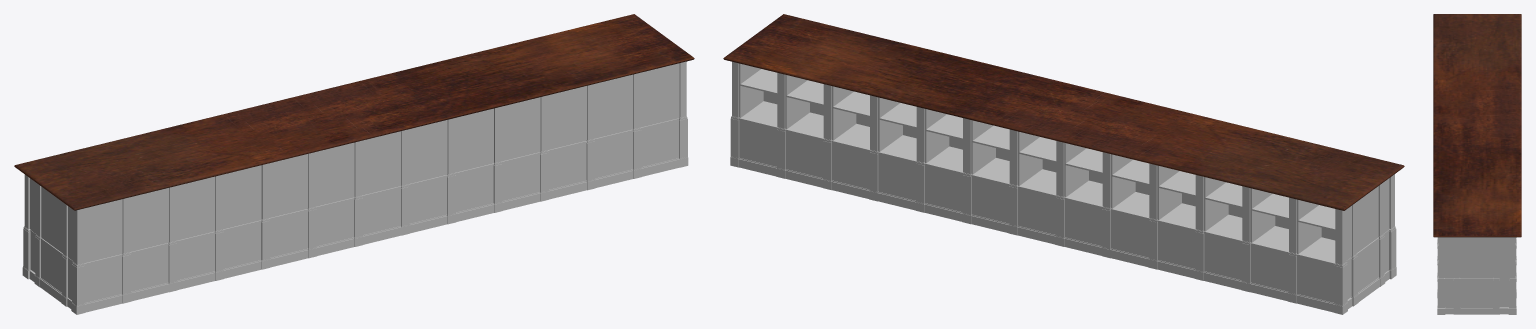
Rendered from bancada_biblioteca.fbx.
3 renders of one model, left to right at view 1: azimuth 30°, elevation 25°; view 2: azimuth 150°, elevation 25°; view 3: azimuth 270°, elevation 25°, orthographic. The views are drawn at different scales.
Parts seen in each view (by area): view 1: bancada_biblioteca; view 2: bancada_biblioteca; view 3: bancada_biblioteca.
Part boxes in pixels (x1,y1,x2,y2): bancada_biblioteca: (14, 14, 694, 314); bancada_biblioteca: (723, 14, 1404, 314); bancada_biblioteca: (1433, 14, 1521, 314).
Bounding box in the file's own units: 4041 × 685 × 677.
